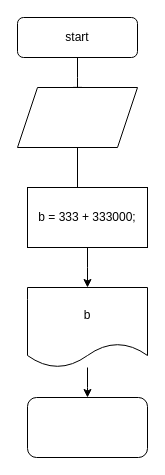
Some shapes in this 165 by 475 pixel diagram are drawn without their labels. Each missing label, with the centre of its shape:
"a = 333;" goes at pixel 77 117.
"end" goes at pixel 87 427.
